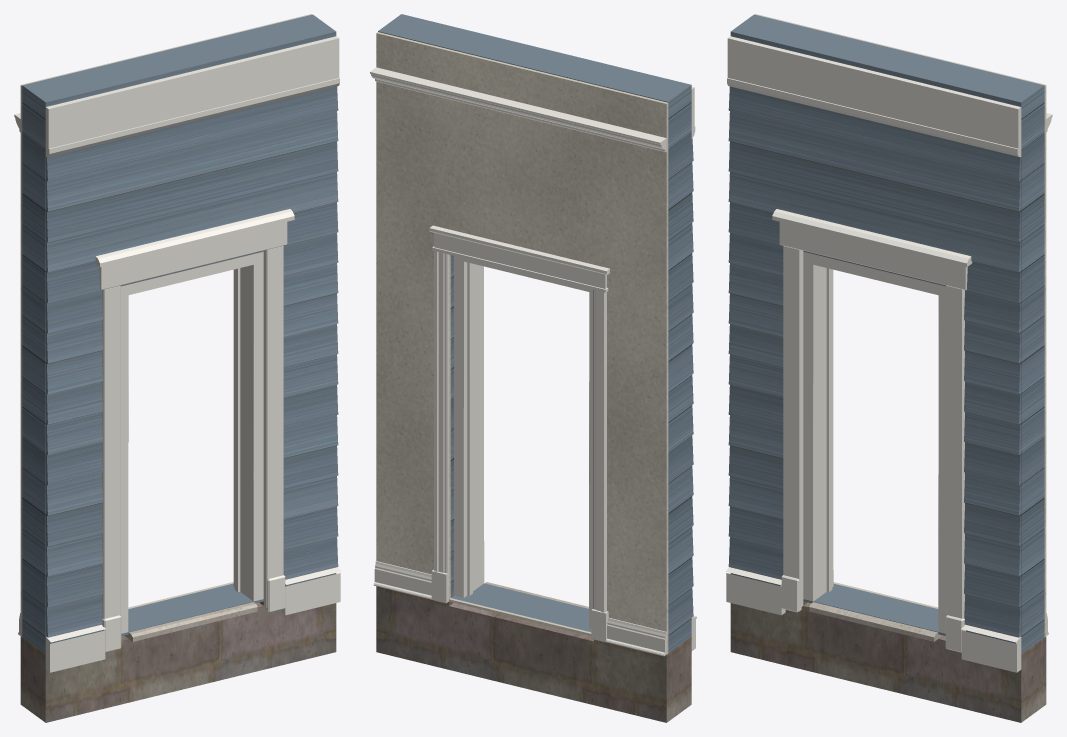
The model's file is wall_siding_door.glb.
The picture shows the model from 3 angles, left to right: view 1: azimuth 30°, elevation 25°; view 2: azimuth 150°, elevation 25°; view 3: azimuth 330°, elevation 25°; orthographic projection.
Parts seen in each view (by area): view 1: wall_siding_door_siding, wall_siding_door_trim, wall_siding_door_stone, wall_siding_door_frame, wall_siding_door_plaster, wall_siding_door_cap; view 2: wall_siding_door_plaster, wall_siding_door_siding, molduras, wall_siding_door_stone, wall_siding_door_frame; view 3: wall_siding_door_siding, wall_siding_door_trim, wall_siding_door_stone, wall_siding_door_frame, wall_siding_door_plaster, wall_siding_door_cap.
Boxes of the visible parts, x1,y1,x2,y2 form: wall_siding_door_siding: [22, 14, 338, 653]; wall_siding_door_trim: [45, 36, 341, 672]; wall_siding_door_stone: [20, 601, 336, 722]; wall_siding_door_frame: [121, 251, 263, 633]; wall_siding_door_plaster: [20, 14, 311, 636]; wall_siding_door_cap: [124, 602, 257, 641]; wall_siding_door_plaster: [376, 32, 668, 653]; wall_siding_door_siding: [378, 14, 693, 652]; molduras: [370, 67, 666, 656]; wall_siding_door_stone: [376, 586, 691, 722]; wall_siding_door_frame: [454, 256, 592, 628]; wall_siding_door_siding: [728, 14, 1044, 653]; wall_siding_door_trim: [725, 36, 1021, 672]; wall_siding_door_stone: [730, 601, 1046, 722]; wall_siding_door_frame: [803, 251, 945, 633]; wall_siding_door_plaster: [755, 14, 1046, 636]; wall_siding_door_cap: [809, 602, 942, 641].
Size of the model in its own units: 2 by 4.08 by 0.45.
Materials: 6 (4 with a texture image).
